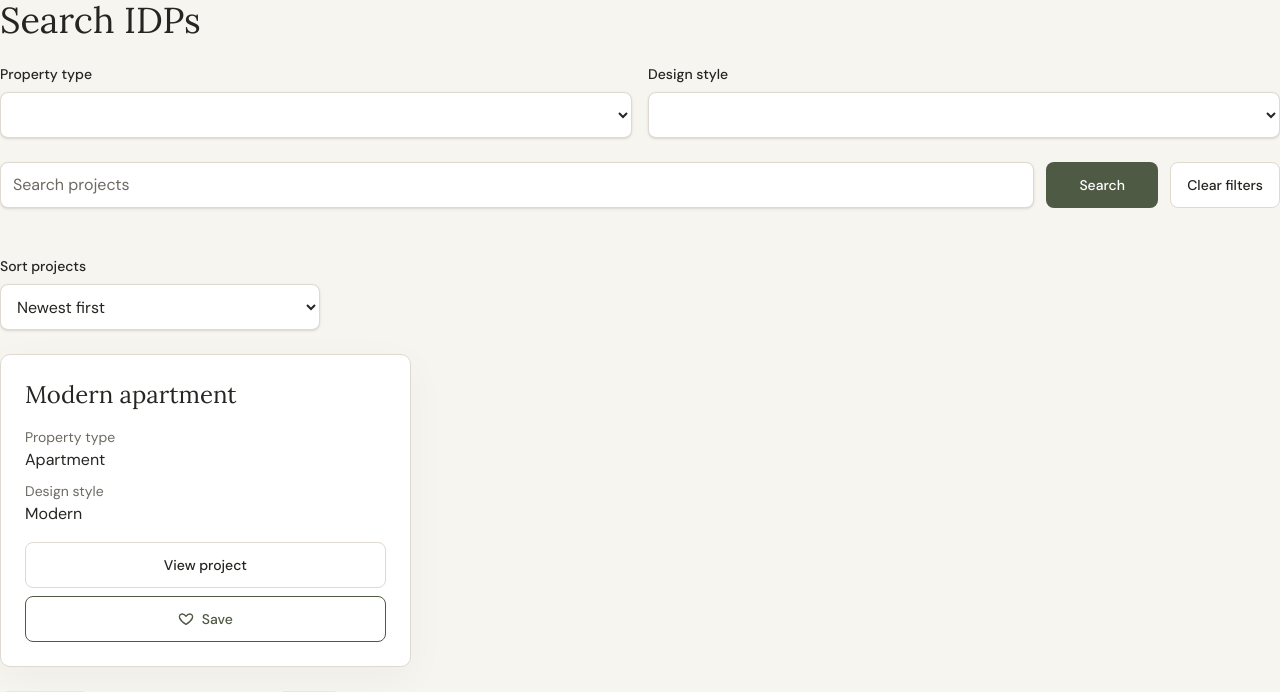
Test: opening details displays category and designer information and Close restores the list
This screenshot has width=1280, height=692.
Click the button "View project" at (205, 565), box [25,542,386,588]
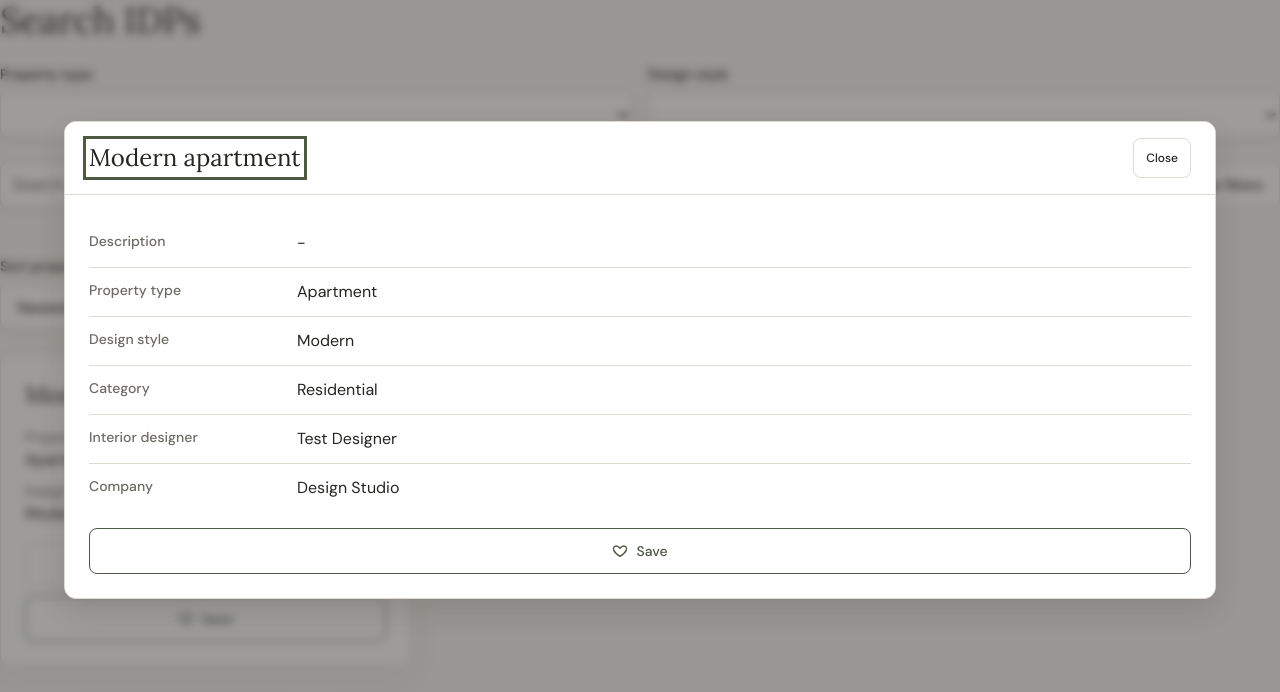
Now the text "Residential" is shown, box [297,379,378,400]
Now the text "Test Designer" is shown, box [297,428,397,449]
Now the text "Design Studio" is shown, box [297,477,399,498]
Click the button with aria-label "Close project view" at (1162, 158), box [1133,138,1191,178]
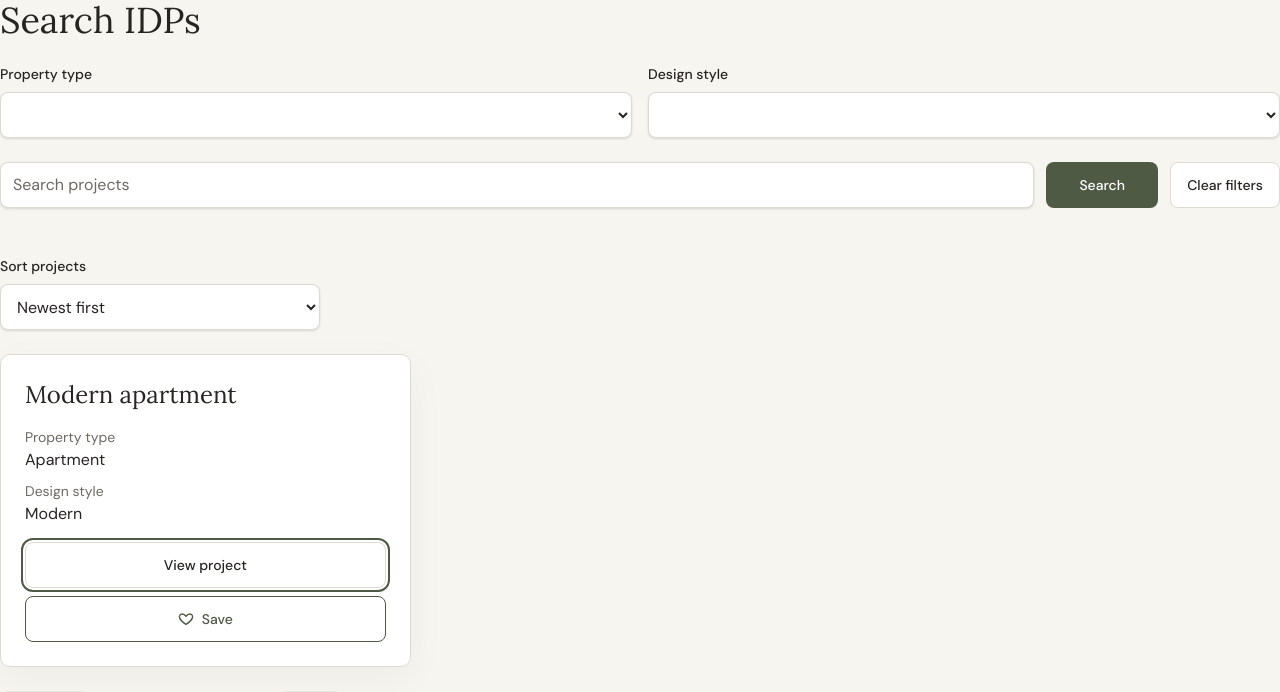
Expected: the heading "Modern apartment" is shown, [25,379,237,410]
Now the dialog is gone
